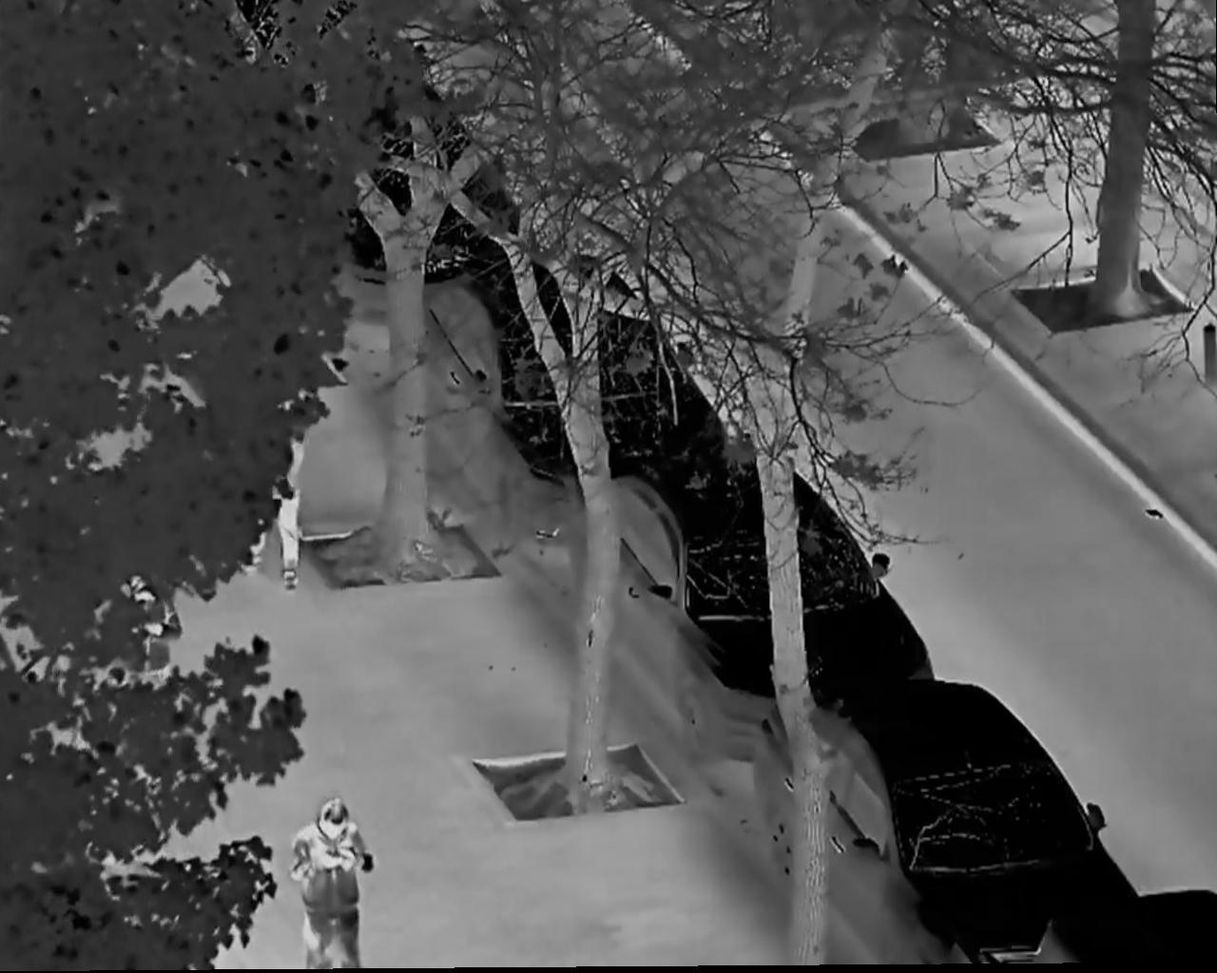person: (232, 371, 309, 598), (285, 798, 374, 973)
